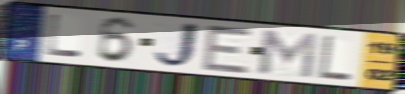6: (95, 15, 137, 65)
E: (200, 23, 256, 76)
J: (151, 20, 202, 70)
L: (44, 12, 84, 59), (317, 33, 353, 83)
M: (257, 27, 319, 80)
